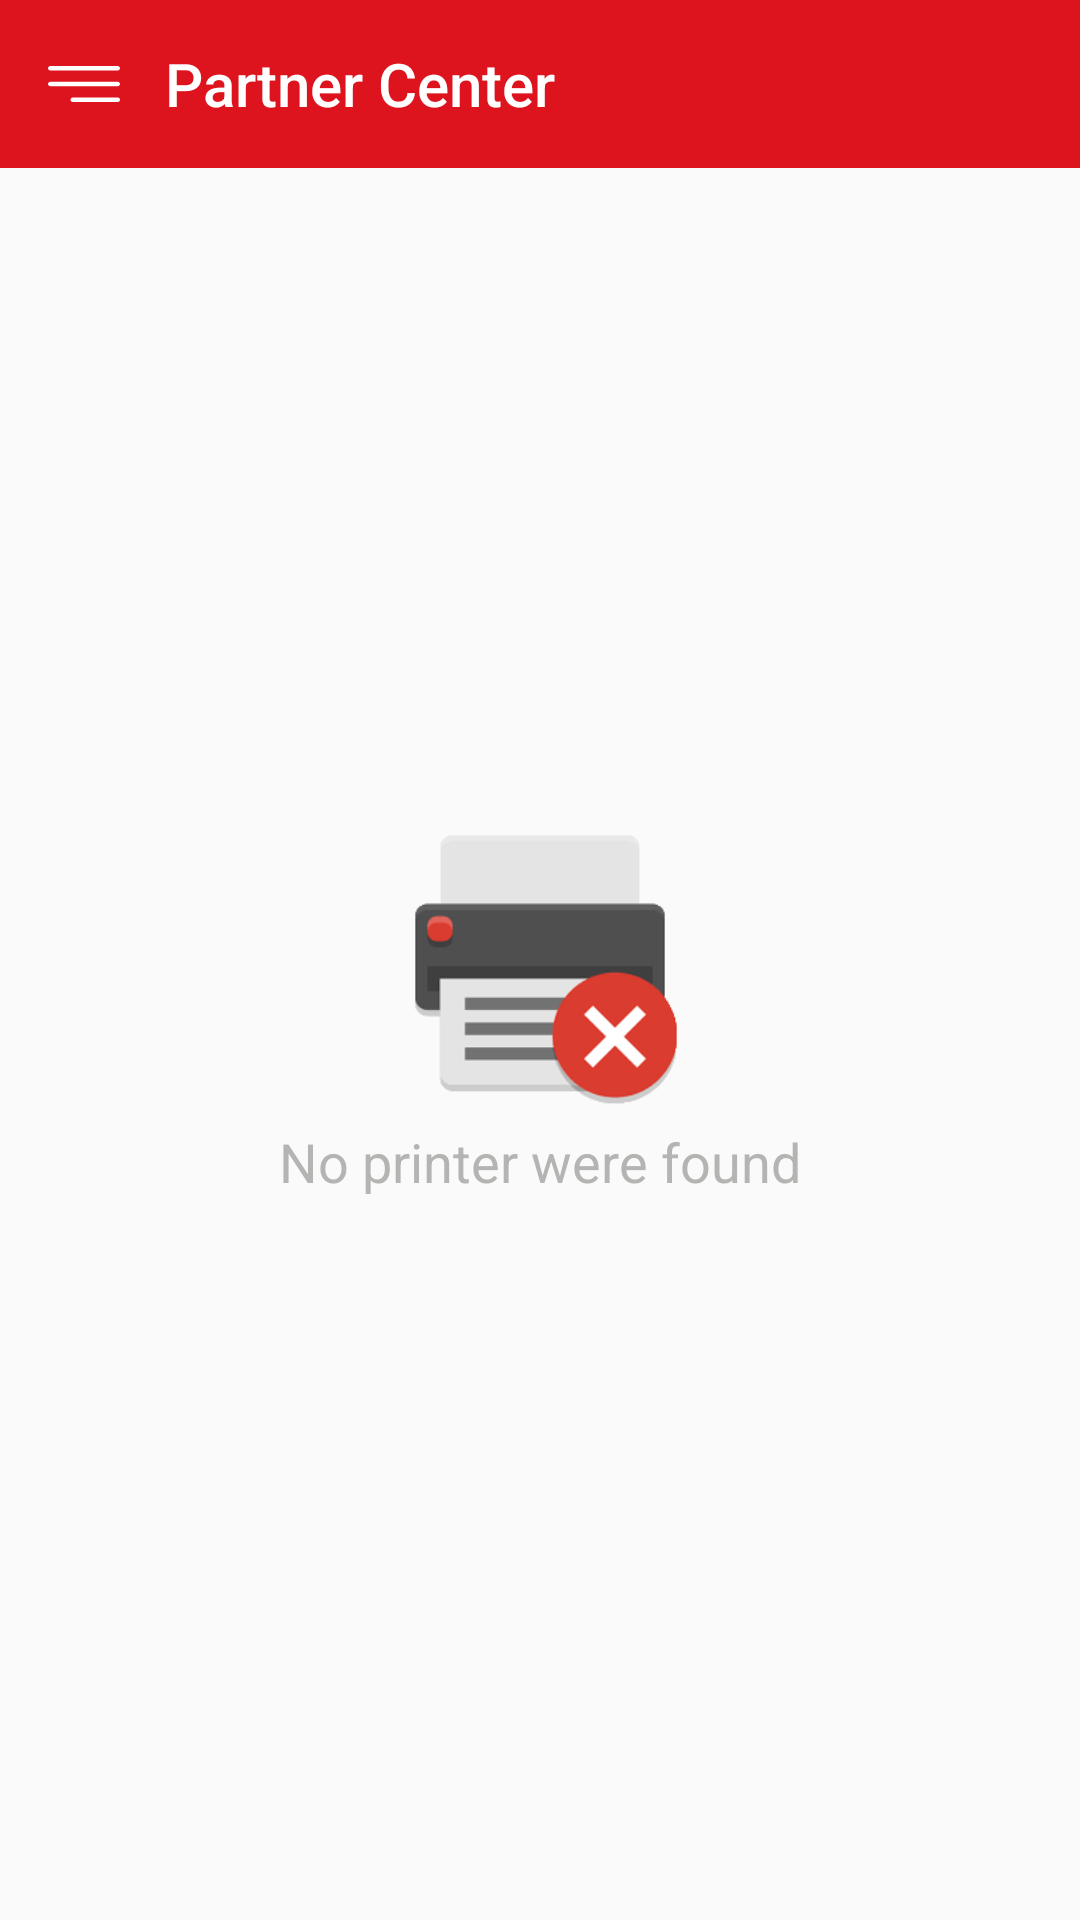

Where icons sit on this 1080 x 1920 app screen, as bbox=(x1, y1, x2, y2):
menu: bbox=(48, 66, 120, 102)
